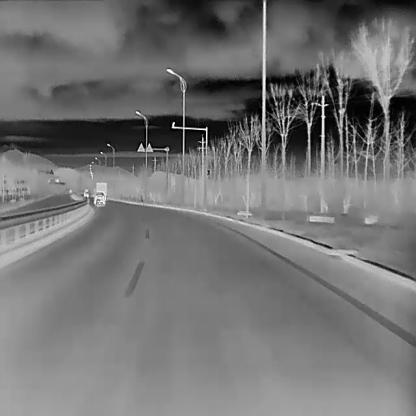car: (92, 191, 106, 205)
truck: (94, 181, 107, 198)
